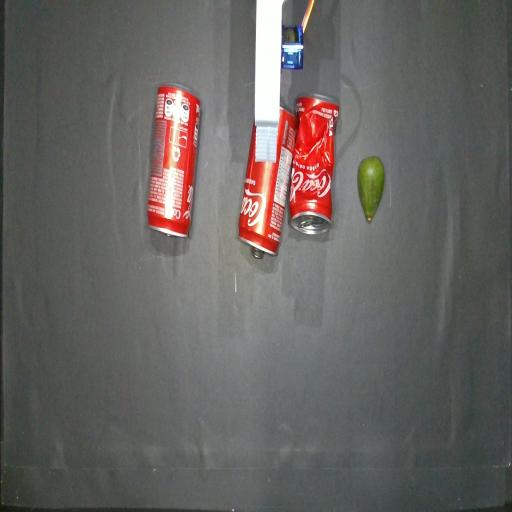higo: (358, 157, 385, 221)
lata: (238, 105, 297, 257), (147, 84, 201, 237)
lata_defectuoso: (289, 94, 339, 234)
